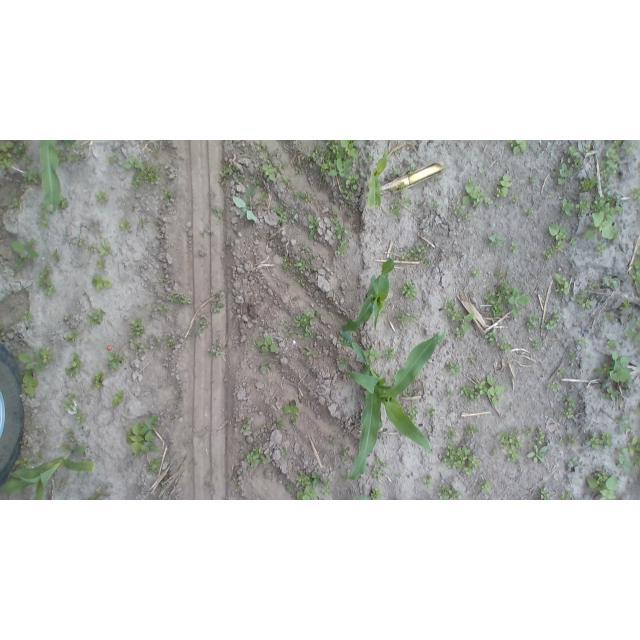Maize: (343, 330, 446, 477), (1, 444, 95, 501), (341, 258, 395, 333), (40, 141, 61, 214), (368, 148, 389, 206), (354, 493, 370, 500)
Weeds: (499, 428, 548, 465), (311, 140, 358, 176), (125, 417, 160, 456), (233, 181, 263, 223), (20, 348, 45, 397), (438, 446, 480, 475), (285, 468, 321, 501), (596, 353, 633, 384), (484, 278, 509, 318), (585, 212, 619, 241), (0, 140, 28, 174), (586, 472, 619, 500), (617, 435, 640, 469), (594, 191, 624, 215), (449, 311, 473, 340), (603, 140, 622, 176), (36, 264, 58, 295), (10, 236, 38, 260), (507, 288, 530, 317), (400, 245, 430, 267), (132, 164, 158, 189), (243, 447, 270, 470), (462, 180, 484, 208), (371, 454, 392, 483), (486, 375, 505, 406), (297, 245, 318, 273), (460, 379, 487, 400), (627, 247, 640, 287), (340, 174, 359, 201), (281, 320, 310, 337), (64, 352, 84, 376), (581, 432, 611, 448), (282, 398, 300, 424), (542, 309, 563, 331), (438, 484, 463, 500), (616, 415, 637, 434), (256, 336, 278, 354), (567, 146, 585, 168), (625, 318, 640, 343), (59, 148, 82, 164), (293, 312, 319, 326), (308, 215, 322, 241), (210, 294, 228, 314), (274, 207, 295, 224), (495, 175, 511, 197), (193, 315, 210, 335), (94, 275, 115, 291), (553, 274, 569, 295), (332, 218, 348, 239), (549, 225, 570, 241), (557, 164, 573, 185), (109, 350, 124, 372), (38, 204, 51, 229), (580, 177, 599, 194), (20, 168, 40, 184), (220, 165, 235, 186), (260, 163, 277, 181), (574, 291, 591, 309), (123, 155, 142, 171), (99, 237, 114, 257), (508, 140, 529, 154), (129, 319, 147, 335), (544, 241, 562, 257), (170, 294, 192, 307), (575, 199, 589, 219), (564, 396, 576, 419), (401, 281, 417, 298), (209, 341, 226, 357), (602, 275, 621, 289), (91, 308, 107, 324), (62, 393, 78, 409), (112, 391, 125, 410), (560, 198, 573, 217), (364, 347, 380, 362), (334, 241, 348, 258), (340, 442, 353, 460), (445, 360, 459, 376), (390, 200, 404, 216), (41, 349, 55, 364), (91, 373, 105, 388), (490, 234, 505, 248), (148, 458, 161, 474), (397, 312, 410, 328), (526, 313, 536, 333), (120, 219, 133, 234), (465, 422, 480, 435), (97, 191, 109, 207), (323, 480, 334, 497), (163, 190, 177, 203), (538, 487, 552, 500), (21, 311, 35, 324), (130, 340, 145, 352), (261, 360, 272, 376), (486, 332, 499, 345), (243, 417, 255, 431), (15, 458, 30, 469), (606, 388, 619, 400), (212, 206, 225, 218), (137, 217, 148, 231), (51, 249, 62, 263), (478, 481, 492, 492), (407, 407, 418, 421), (550, 381, 565, 391), (294, 192, 312, 200), (628, 140, 637, 156), (621, 300, 634, 311), (156, 305, 169, 316), (68, 429, 77, 444), (369, 489, 381, 500), (59, 196, 69, 209), (11, 198, 21, 211), (258, 141, 271, 151), (166, 335, 177, 346), (153, 337, 164, 348), (446, 430, 458, 440), (605, 339, 617, 349), (385, 346, 395, 358), (388, 167, 400, 177), (444, 302, 457, 311), (633, 402, 640, 418), (632, 188, 640, 202), (36, 452, 46, 463), (524, 205, 534, 216), (59, 478, 70, 488), (85, 244, 98, 252), (97, 258, 107, 268), (20, 439, 30, 449), (595, 243, 605, 253), (108, 156, 119, 165), (76, 415, 87, 424), (280, 446, 289, 457), (605, 312, 616, 321), (510, 242, 519, 253), (89, 493, 103, 500), (282, 178, 294, 186), (423, 476, 431, 488), (304, 345, 312, 357), (502, 339, 510, 351), (66, 333, 77, 341), (560, 491, 571, 499), (566, 436, 577, 444), (602, 177, 610, 188), (568, 459, 580, 466), (568, 351, 576, 361), (588, 282, 596, 292), (282, 257, 289, 268), (428, 408, 436, 417), (512, 193, 520, 202), (63, 444, 73, 451), (408, 164, 415, 174), (453, 207, 463, 214), (579, 336, 587, 344), (340, 338, 348, 346), (298, 278, 306, 286), (398, 182, 406, 190), (465, 214, 473, 222), (276, 421, 285, 428), (557, 369, 566, 376), (433, 199, 440, 208), (485, 199, 494, 206), (533, 340, 540, 349), (24, 155, 34, 161), (339, 358, 345, 368), (77, 238, 85, 245), (434, 176, 442, 183), (558, 437, 563, 448), (409, 389, 418, 395), (473, 268, 479, 277), (547, 192, 553, 201), (446, 389, 453, 396), (390, 187, 397, 194), (404, 197, 412, 203), (0, 326, 6, 334), (158, 277, 166, 282)
